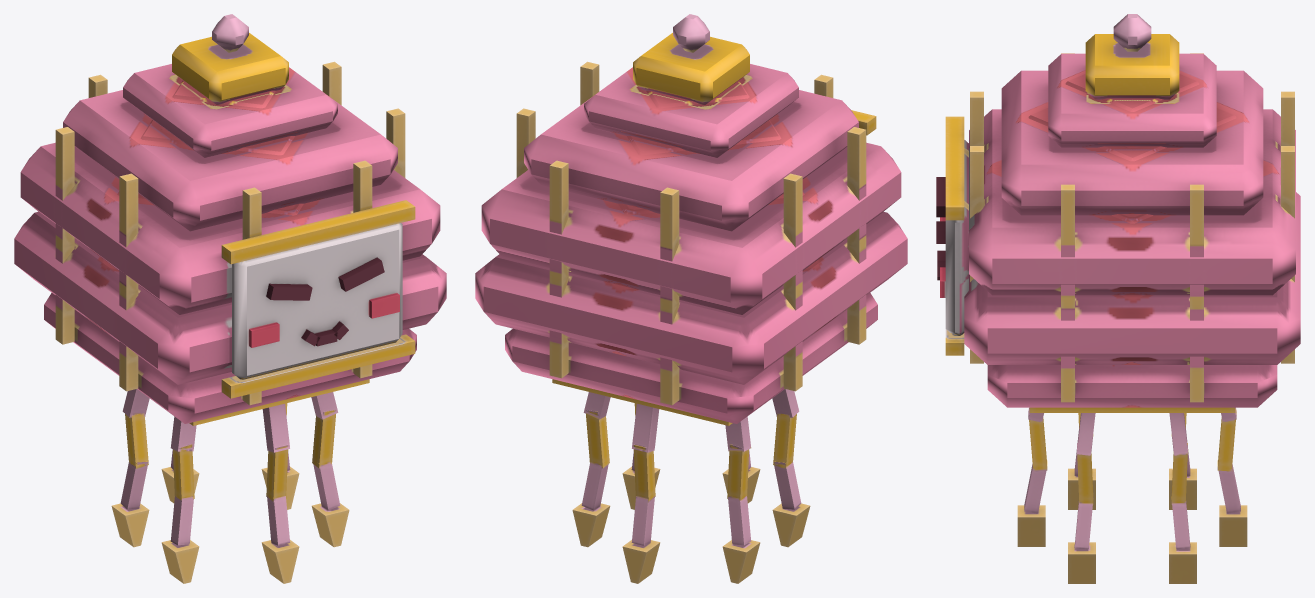
File: MeduseLampion_Rig.fbx
3 renders of one model, left to right at view 1: azimuth 30°, elevation 25°; view 2: azimuth 150°, elevation 25°; view 3: azimuth 270°, elevation 25°, orthographic.
Parts seen in each view (by area): view 1: Body, Tentacle4, Tentacle3, Tentacle2, Tentacle5; view 2: Body, Tentacle1, Tentacle2, Tentacle3, Tentacle0; view 3: Body, Tentacle0, Tentacle5, Tentacle4, Tentacle1, Tentacle2, Tentacle3.
Part boxes in pixels (x1,y1,x2,y2): Body: (14, 14, 446, 425); Tentacle4: (261, 403, 299, 583); Tentacle3: (161, 416, 199, 583); Tentacle2: (111, 389, 149, 547); Tentacle5: (311, 392, 349, 547); Body: (475, 14, 907, 425); Tentacle1: (622, 403, 660, 583); Tentacle2: (722, 416, 760, 583); Tentacle3: (772, 389, 810, 547); Tentacle0: (572, 392, 610, 547); Body: (936, 14, 1300, 412); Tentacle0: (1169, 413, 1196, 583); Tentacle5: (1068, 413, 1095, 583); Tentacle4: (1017, 408, 1047, 546); Tentacle1: (1217, 407, 1247, 546); Tentacle2: (1169, 413, 1196, 509); Tentacle3: (1068, 413, 1095, 509).
Size of the model in its own units: 3.46 by 6 by 3.74.
1 material, 1 textured.
